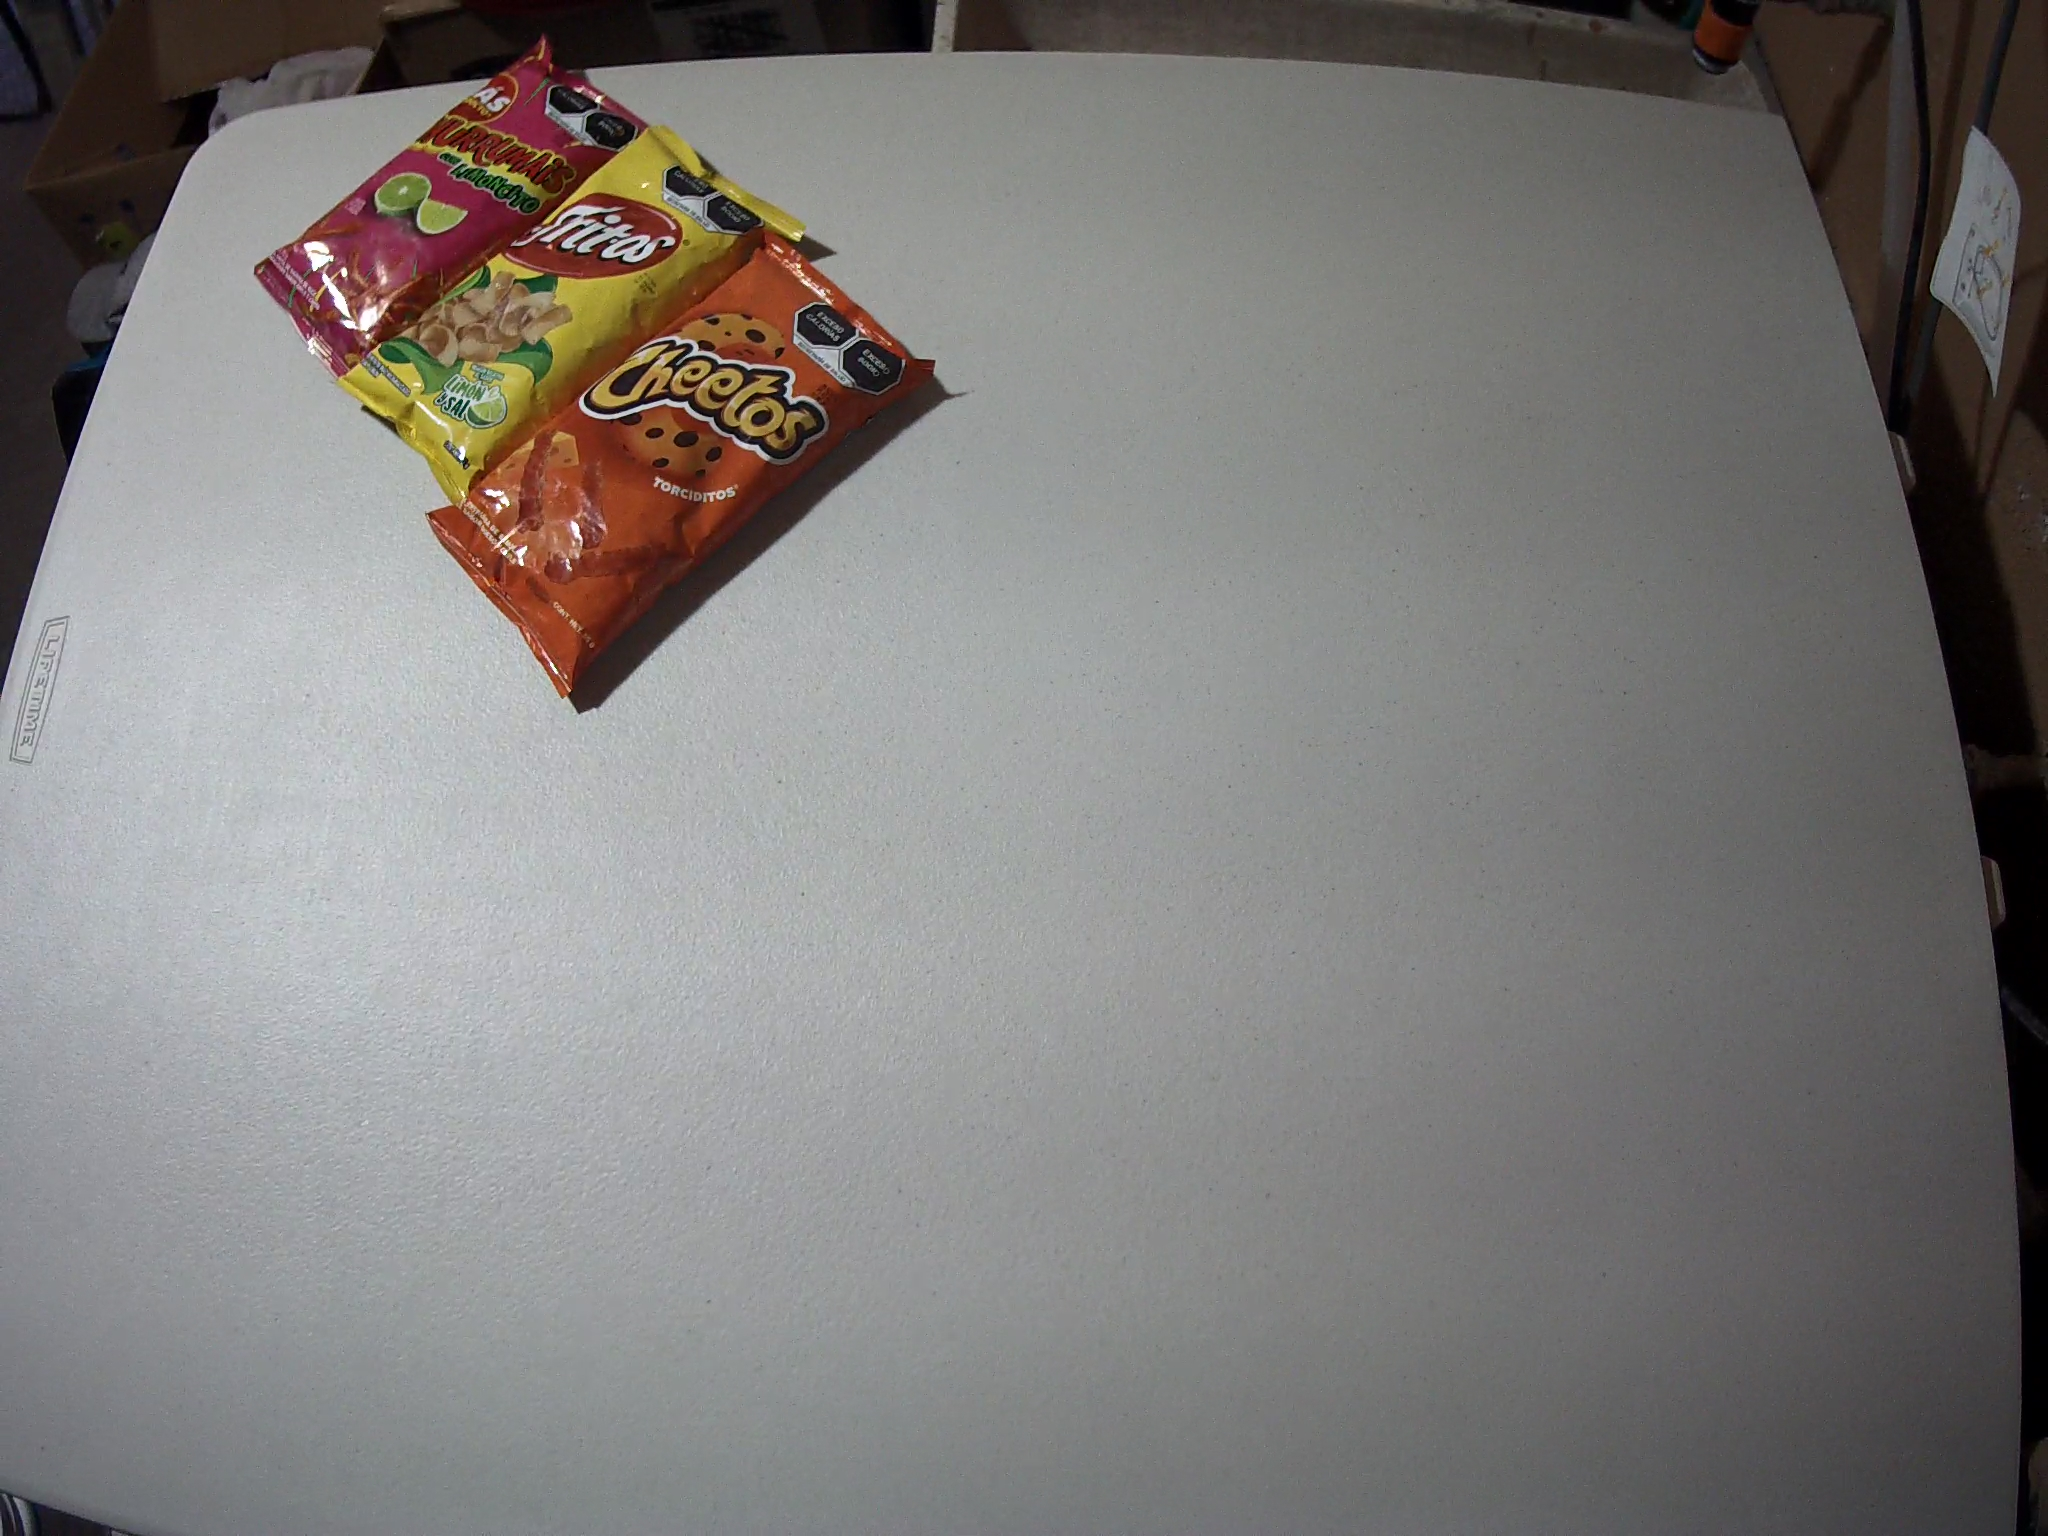CheetosTorciditos_55_F: (424, 227, 939, 700)
Churrumais_70_F: (252, 31, 656, 378)
FritosSalLimon_65_F: (337, 123, 808, 511)
